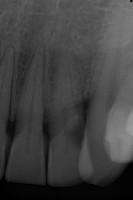Furcation Involvement: (47, 46, 96, 101)
